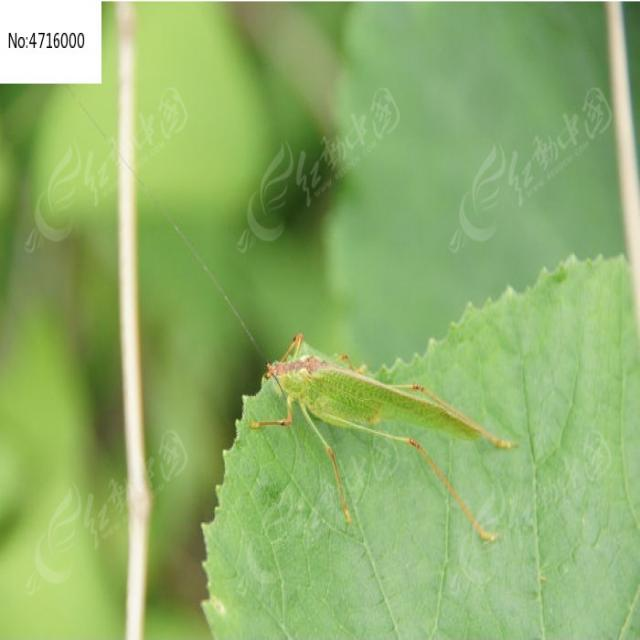ZhaMeng: (245, 330, 513, 482)
